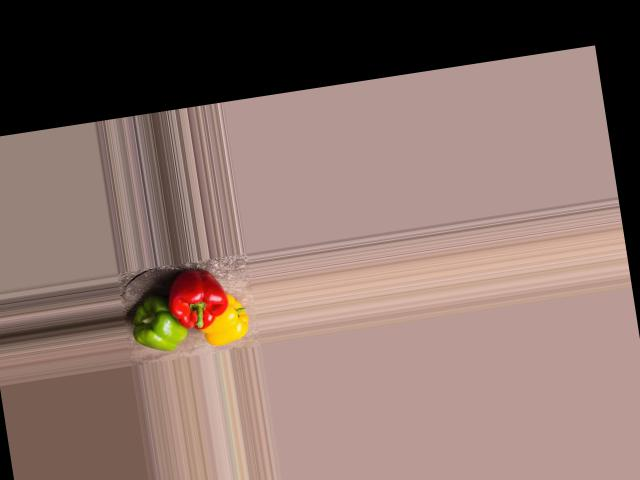bell_pepper: (198, 291, 251, 349)
